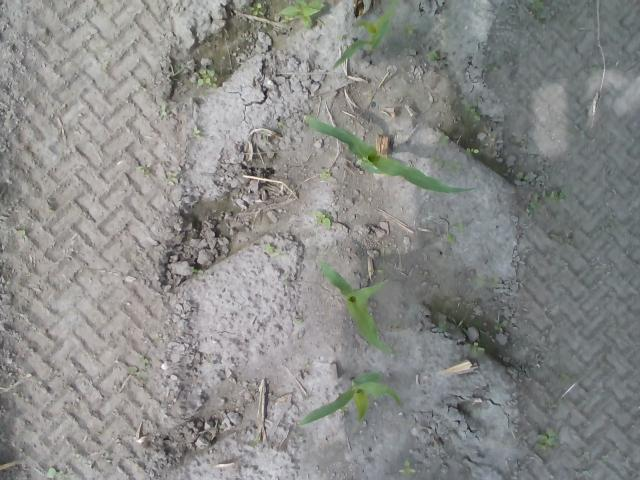Maize: (301, 114, 479, 196), (318, 257, 393, 356), (295, 370, 405, 428), (332, 0, 396, 70), (278, 0, 325, 28)
Weeds: (528, 189, 566, 215), (127, 352, 153, 376), (534, 428, 560, 451), (192, 67, 220, 88), (432, 156, 462, 175), (473, 272, 499, 288), (312, 209, 330, 231), (464, 338, 486, 356), (446, 222, 464, 243), (399, 460, 417, 475), (44, 468, 66, 480), (248, 2, 264, 17), (135, 164, 152, 177), (532, 0, 544, 18), (402, 23, 418, 36), (464, 145, 480, 158), (434, 133, 451, 145), (319, 167, 333, 181), (188, 125, 202, 139), (492, 320, 508, 332), (434, 320, 447, 334), (163, 175, 179, 186), (426, 52, 443, 60), (265, 243, 276, 254)
